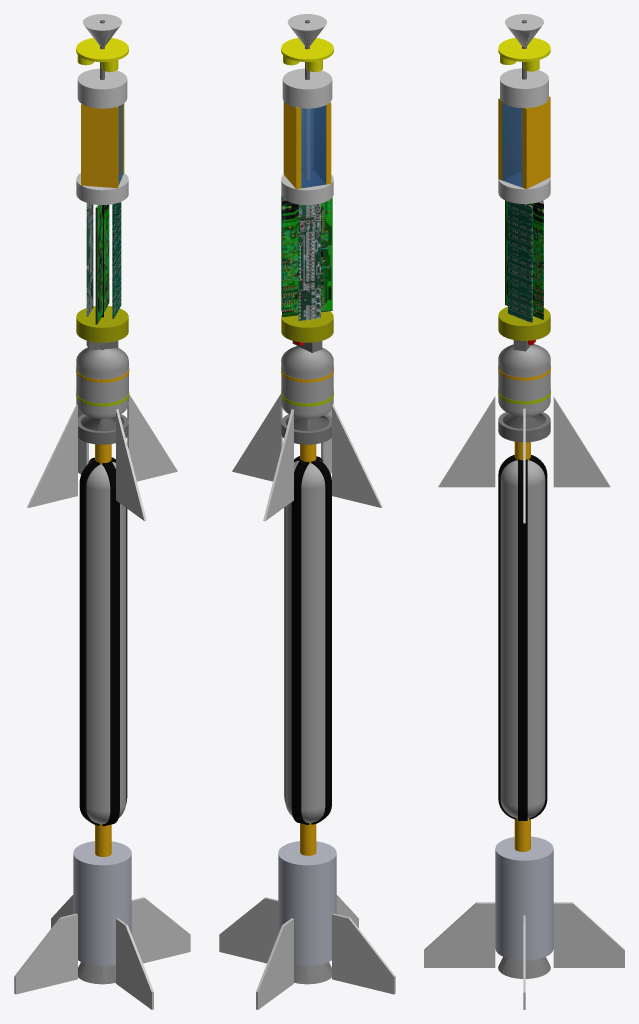
Rendered from AIM120D.glb.
3 views of the same model, side by side, from view 1: azimuth 30°, elevation 25°; view 2: azimuth 150°, elevation 25°; view 3: azimuth 270°, elevation 25° (orthographic).
Parts seen in each view (by area): view 1: Cylinder_7_7_22, Cylinder_3, Cube_1_1_1_16, Cube_1_2_2_17, Cube_1_2_2_50, Mesh_1_6, Mesh_7, Cylinder_1_1_67, Cylinder_4_4_52, Cube_1_1_1_61, Cylinder_3_3_63, Mesh_13 (+22 smaller); view 2: Cylinder_7_7_22, Cylinder_3, Cube_1_1_1_16, Cube_1_1_1_61, Cube_1_2_2_17, Cube_1_6_6_66, Mesh_4, Mesh_1_9, 1_1_49, Cylinder_1_1_67, Cylinder_4_4_52, Cube_1_3_3_51 (+22 smaller); view 3: Cylinder_7_7_22, Cylinder_3, Cube_1_2_2_17, Cube_1_5_5_65, Mesh_10, Mesh_1_15, Cube_1_3_3_51, Cylinder_1_1_67, Cube_1_1_1_16, Cylinder_4_4_52, 1_1_49, Cube_1_1_1_61 (+16 smaller).
Part boxes in pixels (left/top/right/bottom): Cylinder_7_7_22: left=86, top=487, right=126, bottom=810; Cylinder_3: left=73, top=841, right=131, bottom=965; Cube_1_1_1_16: left=110, top=489, right=119, bottom=811; Cube_1_2_2_17: left=79, top=484, right=127, bottom=808; Cube_1_2_2_50: left=81, top=104, right=118, bottom=188; Mesh_1_6: left=28, top=405, right=77, bottom=507; Mesh_7: left=128, top=394, right=177, bottom=481; Cylinder_1_1_67: left=76, top=361, right=128, bottom=413; Cylinder_4_4_52: left=77, top=68, right=127, bottom=108; Cube_1_1_1_61: left=95, top=204, right=109, bottom=324; Cylinder_3_3_63: left=76, top=306, right=128, bottom=342; Mesh_13: left=116, top=410, right=144, bottom=520; Cylinder_7_7_22: left=285, top=486, right=325, bottom=809; Cylinder_3: left=278, top=841, right=336, bottom=965; Cube_1_1_1_16: left=291, top=488, right=301, bottom=810; Cube_1_1_1_61: left=282, top=197, right=332, bottom=317; Cube_1_2_2_17: left=284, top=483, right=331, bottom=807; Cube_1_6_6_66: left=298, top=203, right=320, bottom=320; Mesh_4: left=332, top=405, right=381, bottom=507; Mesh_1_9: left=232, top=394, right=281, bottom=481; 1_1_49: left=301, top=105, right=326, bottom=188; Cylinder_1_1_67: left=281, top=363, right=333, bottom=413; Cylinder_4_4_52: left=282, top=68, right=332, bottom=108; Cube_1_3_3_51: left=283, top=101, right=301, bottom=188; Cylinder_7_7_22: left=500, top=480, right=545, bottom=805; Cylinder_3: left=495, top=836, right=553, bottom=960; Cube_1_2_2_17: left=518, top=487, right=527, bottom=806; Cube_1_5_5_65: left=508, top=201, right=532, bottom=322; Mesh_10: left=553, top=397, right=609, bottom=487; Mesh_1_15: left=439, top=397, right=495, bottom=487; Cube_1_3_3_51: left=522, top=96, right=550, bottom=189; Cylinder_1_1_67: left=498, top=361, right=550, bottom=411; Cube_1_1_1_16: left=498, top=479, right=547, bottom=798; Cylinder_4_4_52: left=500, top=68, right=548, bottom=107; 1_1_49: left=502, top=102, right=522, bottom=187; Cube_1_1_1_61: left=505, top=200, right=543, bottom=319.
Bounding box in the file's own units: 61.37 × 320 × 61.38.
Materials: 27 (4 with a texture image).
